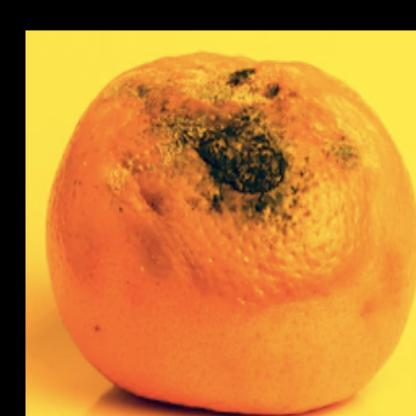rotten: (48, 52, 416, 416)
